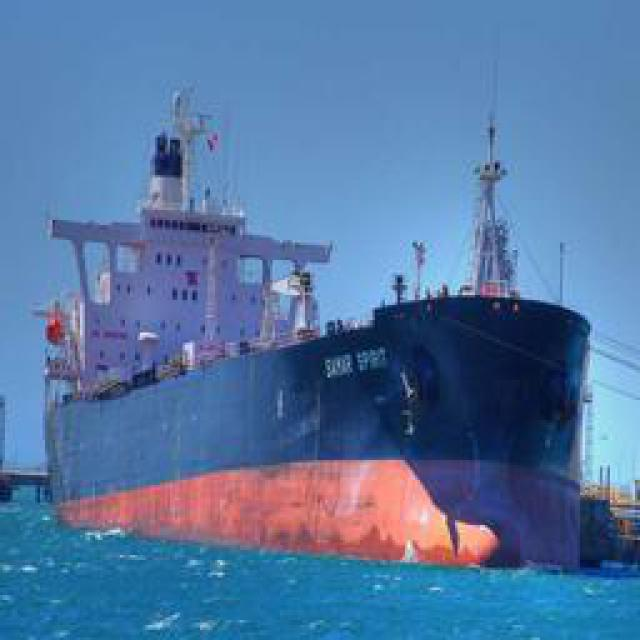Ship: (32, 40, 602, 573)
